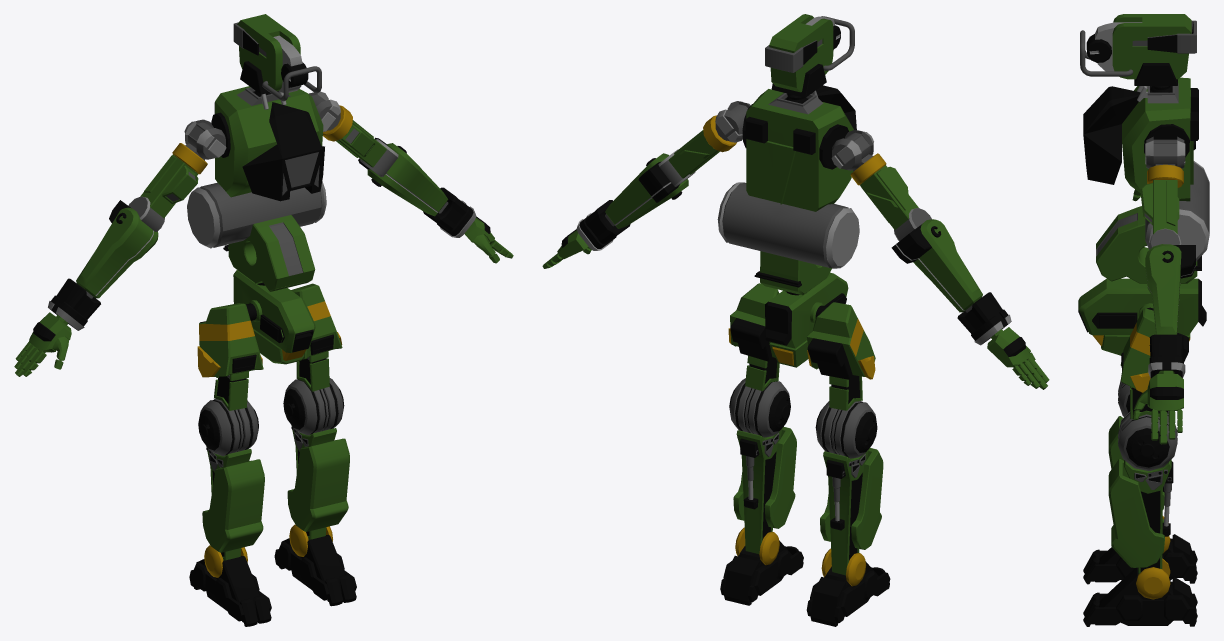
Rendered from character_boss.fbx.
3 renders of one model, left to right at view 1: azimuth 30°, elevation 25°; view 2: azimuth 150°, elevation 25°; view 3: azimuth 270°, elevation 25°, orthographic. The views are drawn at different scales.
Parts seen in each view (by area): view 1: Robot_the_boss; view 2: Robot_the_boss; view 3: Robot_the_boss.
Boxes of the visible parts, x1,y1,x2,y2 form: Robot_the_boss: (14,14,513,626); Robot_the_boss: (542,14,1049,626); Robot_the_boss: (1078,14,1209,626).
Bounding box in the file's own units: 162 × 176 × 36.12.
